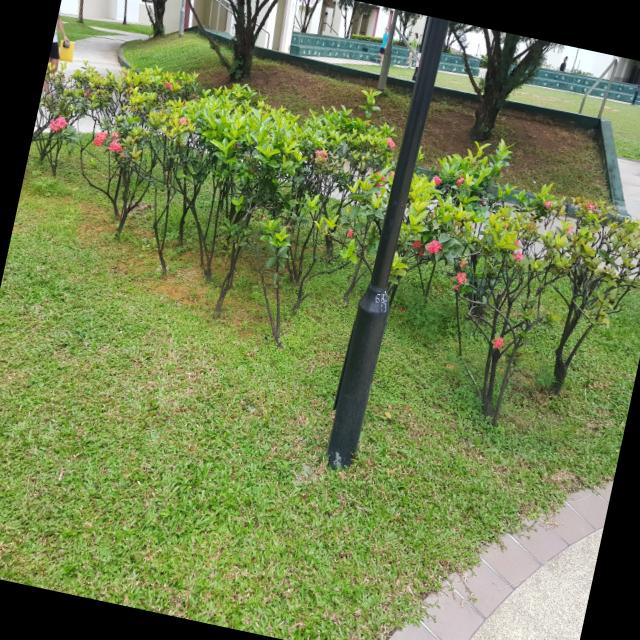Chinese-Ixora: (48, 112, 68, 134), (452, 270, 468, 292), (92, 130, 110, 148), (425, 238, 443, 255), (312, 148, 328, 164), (108, 137, 122, 153), (509, 248, 524, 262), (454, 172, 466, 188), (492, 335, 504, 350), (430, 173, 443, 186), (383, 136, 397, 148), (373, 182, 385, 196), (584, 200, 596, 211), (374, 170, 386, 181), (412, 237, 422, 249), (176, 115, 188, 125), (164, 80, 174, 90), (543, 198, 553, 208), (512, 238, 522, 248), (346, 228, 354, 238), (566, 222, 574, 232), (110, 130, 120, 138), (459, 258, 466, 266), (504, 222, 509, 228), (500, 216, 504, 220)
